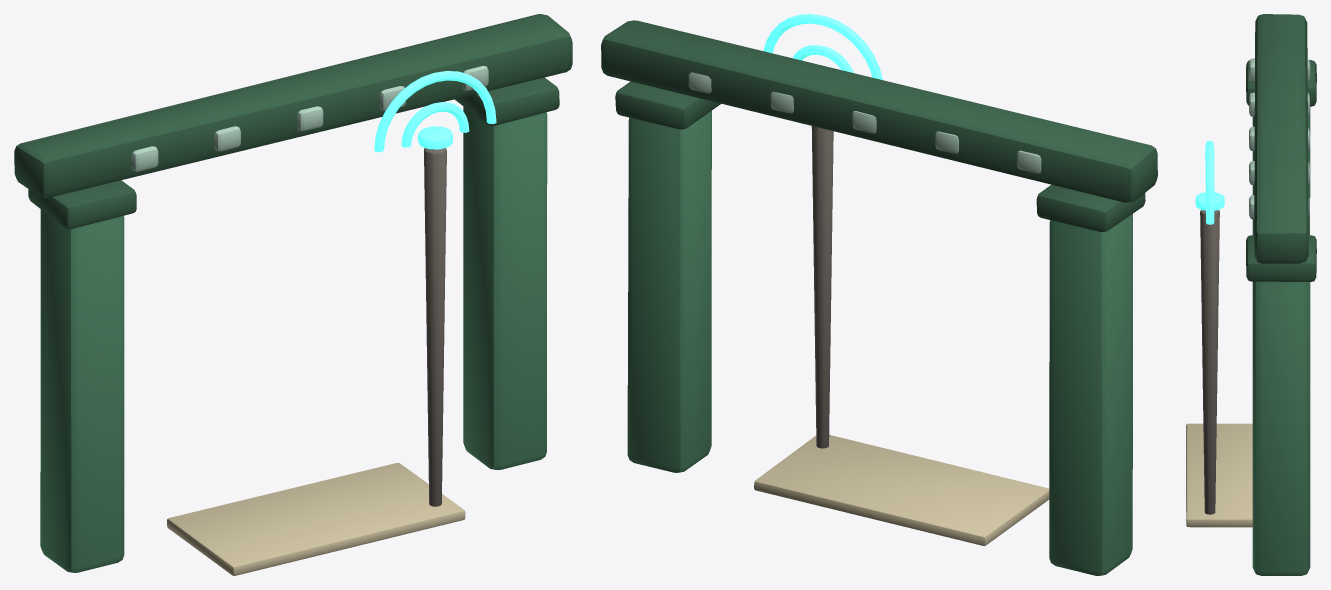
The picture shows the model from 3 angles, left to right: view 1: azimuth 30°, elevation 25°; view 2: azimuth 150°, elevation 25°; view 3: azimuth 270°, elevation 25°; orthographic projection. The views are drawn at different scales.
Parts seen in each view (by area): view 1: gate_d762108d; view 2: gate_d762108d; view 3: gate_d762108d.
Part boxes in pixels (x1,y1,x2,y2): gate_d762108d: [14, 14, 572, 575]; gate_d762108d: [601, 14, 1157, 575]; gate_d762108d: [1186, 14, 1316, 575].
Bounding box in the file's own units: 5.52 × 4.35 × 1.37.
